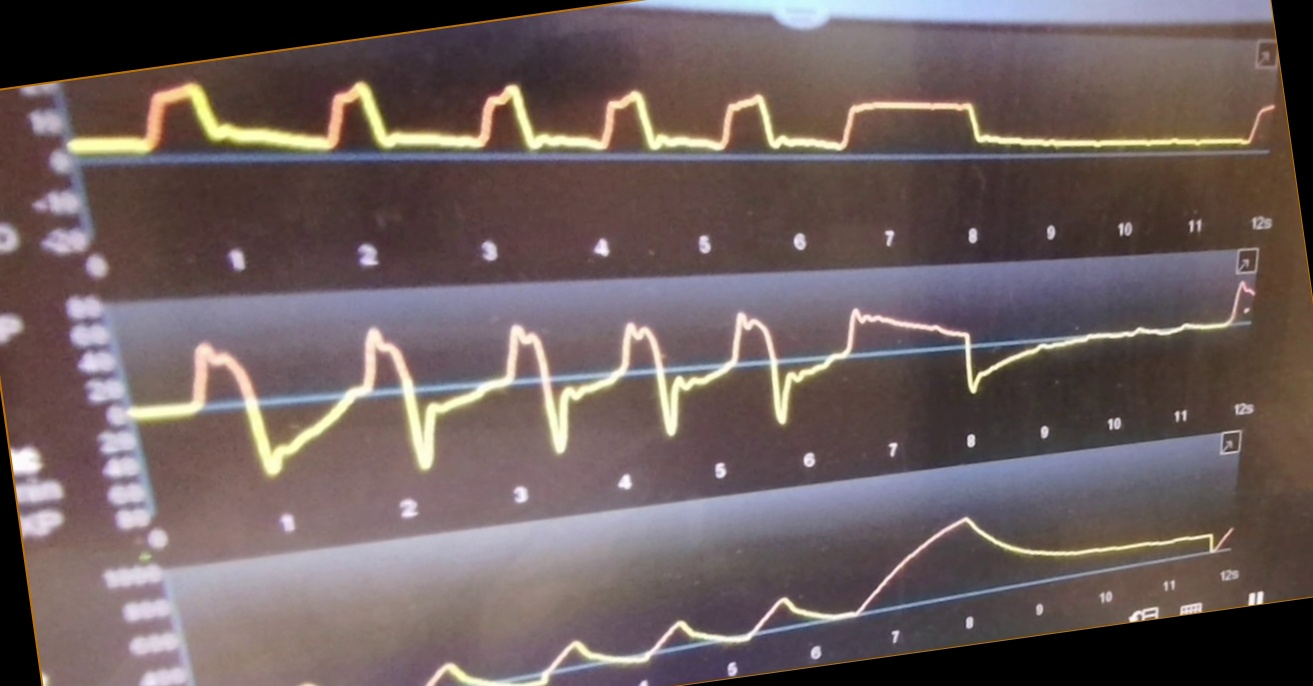Accumulation Flow: (155, 286, 1256, 479)
Volume: (436, 512, 1233, 686)
